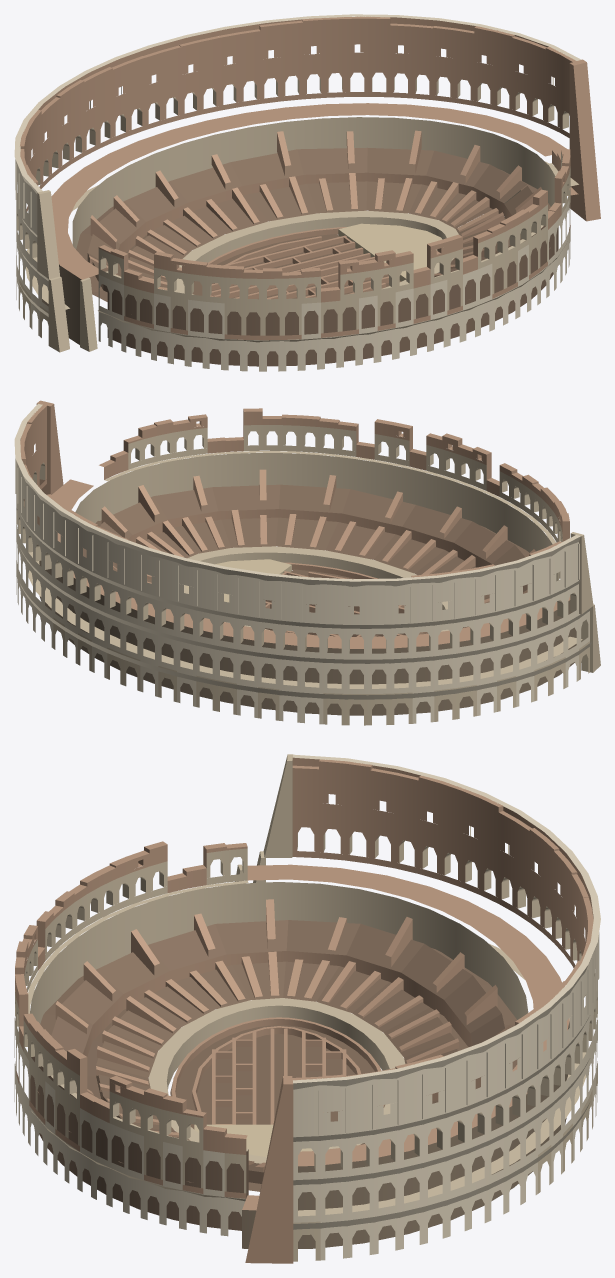
Rendered from rome-colosseum.glb.
3 renders of one model, top to bottom at view 1: azimuth 30°, elevation 25°; view 2: azimuth 150°, elevation 25°; view 3: azimuth 270°, elevation 25°, orthographic. The views are drawn at different scales.
Visible parts, largest first — view 1: Colosseum; view 2: Colosseum; view 3: Colosseum.
Boxes of the visible parts, box(x1,y1,x2,y2) form: Colosseum: box(14, 14, 600, 371); Colosseum: box(14, 400, 600, 725); Colosseum: box(14, 754, 600, 1263).
Bounding box in the file's own units: 191 × 48.5 × 144.
